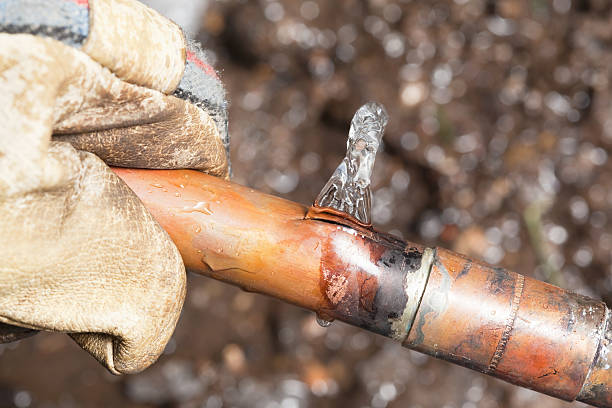rupture: (293, 205, 385, 247)
